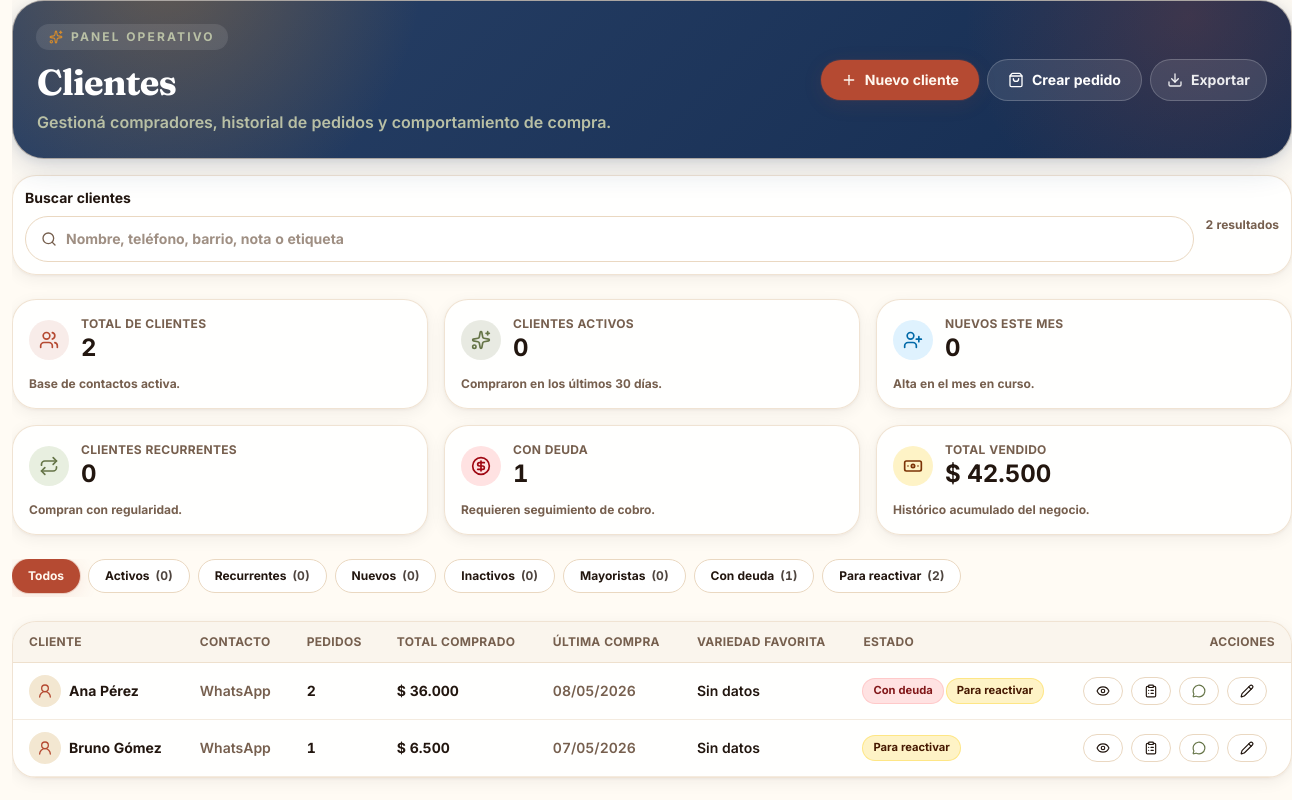
CustomersPage › lists customers and filters by name or phone
Expected: the text "Ana Pérez" is shown, 69,681 -> 139,701
Expected: the text "Bruno Gómez" is shown, 69,738 -> 162,758
Type "9988" into the search field labelled "Buscar clientes".
click(609, 239); type("9988")  # box 25,216 -> 1194,262
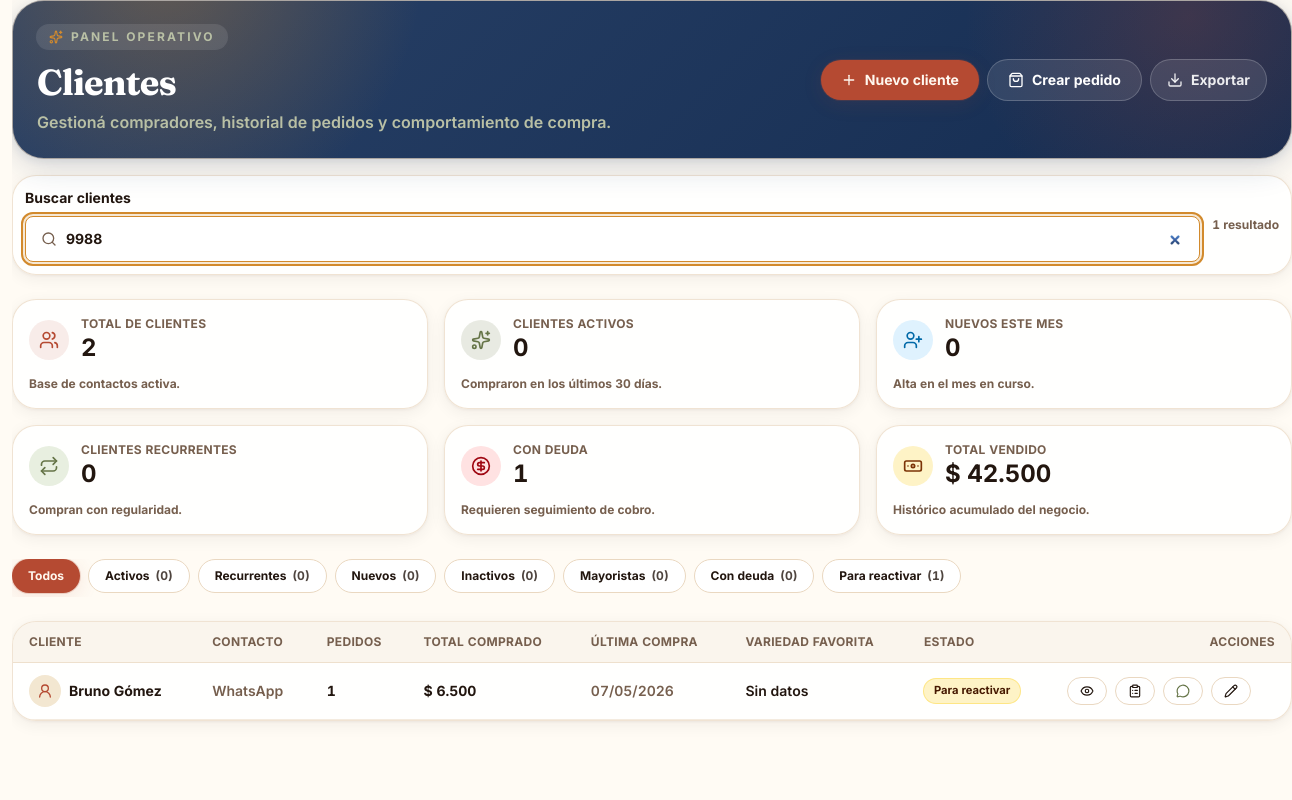
Expected: the text "Bruno Gómez" is shown, 69,681 -> 162,701
Result: the text "Ana Pérez" is gone
